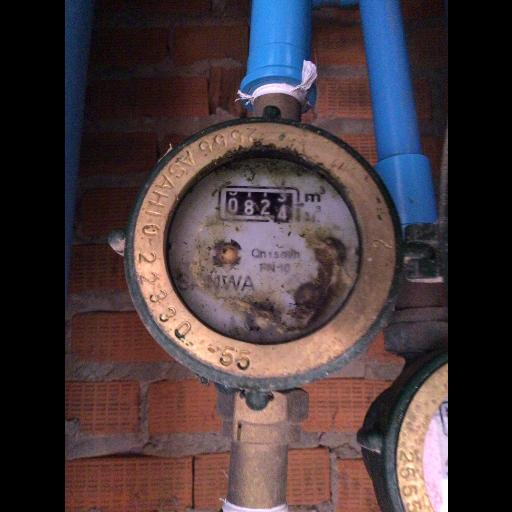0: (225, 191, 241, 216)
2: (257, 192, 274, 216)
4: (273, 192, 292, 223)
8: (239, 191, 257, 215)
border_water_meter_number: (218, 185, 301, 223)
